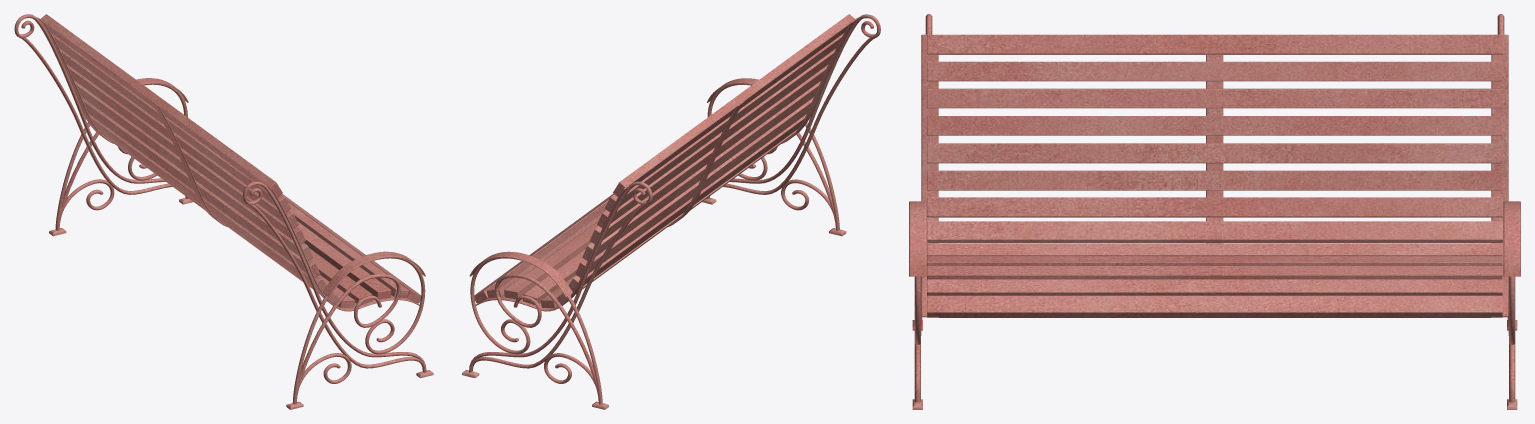
Rendered from Classic_Garden_Bench.obj.
3 renders of one model, left to right at view 1: azimuth 30°, elevation 25°; view 2: azimuth 150°, elevation 25°; view 3: azimuth 270°, elevation 25°, orthographic. The views are drawn at different scales.
Visible parts, largest first — view 1: Bench; view 2: Bench; view 3: Bench.
Boxes of the visible parts, x1,y1,x2,y2 form: Bench: [14, 14, 433, 409]; Bench: [462, 14, 880, 409]; Bench: [909, 14, 1520, 409].
Bounding box in the file's own units: 0.8905 × 1.07 × 2.05.
1 material, 1 textured.
